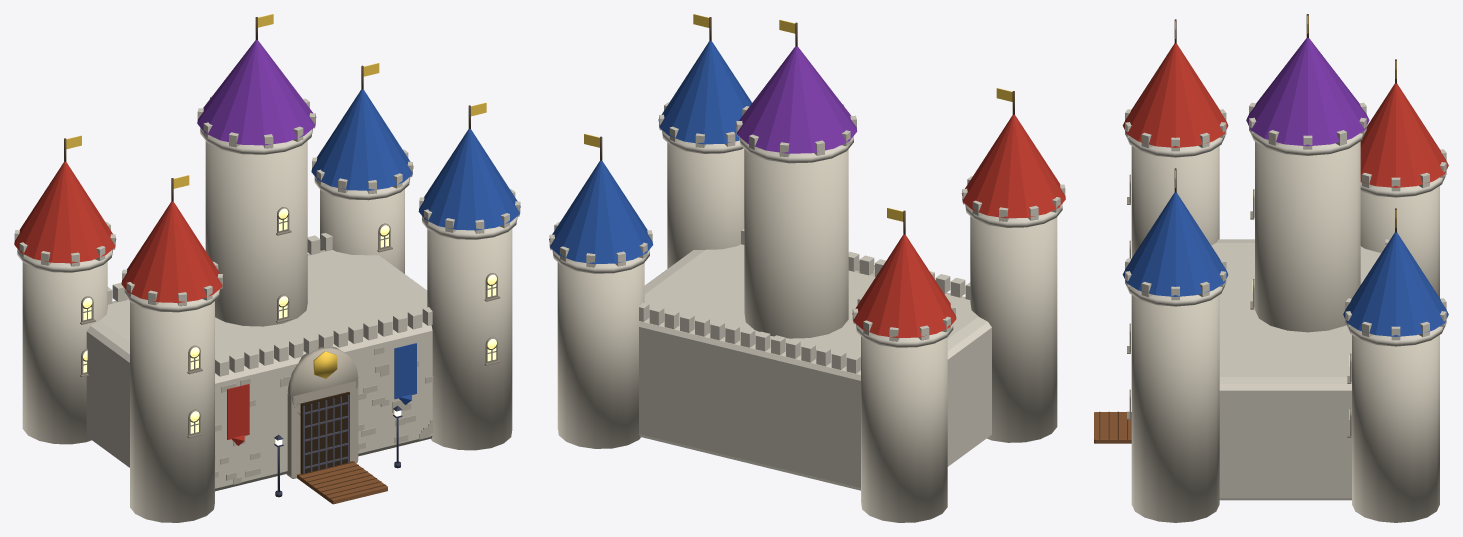
The model's file is hrad.glb.
3 renders of one model, left to right at view 1: azimuth 30°, elevation 25°; view 2: azimuth 150°, elevation 25°; view 3: azimuth 270°, elevation 25°, orthographic. The views are drawn at different scales.
Visible parts, largest first — view 1: hrad; view 2: hrad; view 3: hrad.
Boxes of the visible parts, left/top/right/bottom form: hrad: left=14, top=14, right=520, bottom=522; hrad: left=549, top=14, right=1065, bottom=522; hrad: left=1094, top=14, right=1448, bottom=522.
Size of the model in its own units: 20.8 by 20.8 by 16.1.
Materials: 3 (3 with a texture image).
